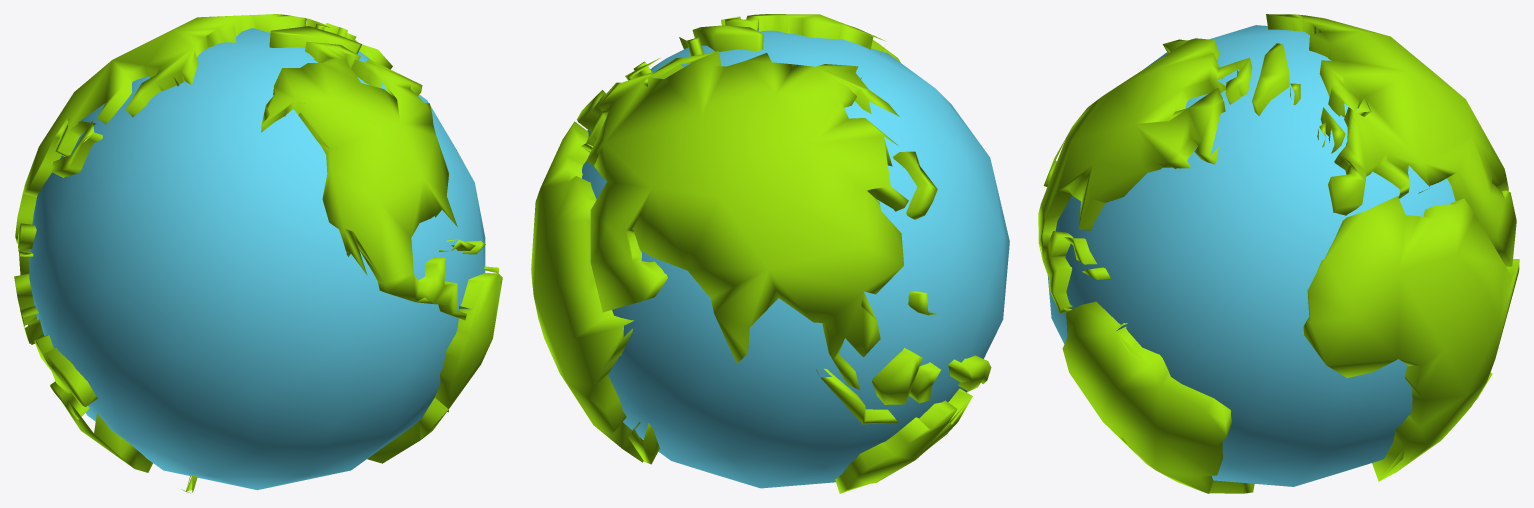
File: earth.glb
3 views of the same model, side by side, from view 1: azimuth 30°, elevation 25°; view 2: azimuth 150°, elevation 25°; view 3: azimuth 270°, elevation 25° (orthographic).
Visible parts, largest first — view 1: Earth.1; view 2: Earth.1; view 3: Earth.1.
Part boxes in pixels (x1,y1,x2,y2): Earth.1: (14, 14, 502, 493); Earth.1: (531, 14, 1009, 493); Earth.1: (1038, 14, 1519, 493).
Bounding box in the file's own units: 26.89 × 27.2 × 26.95.
